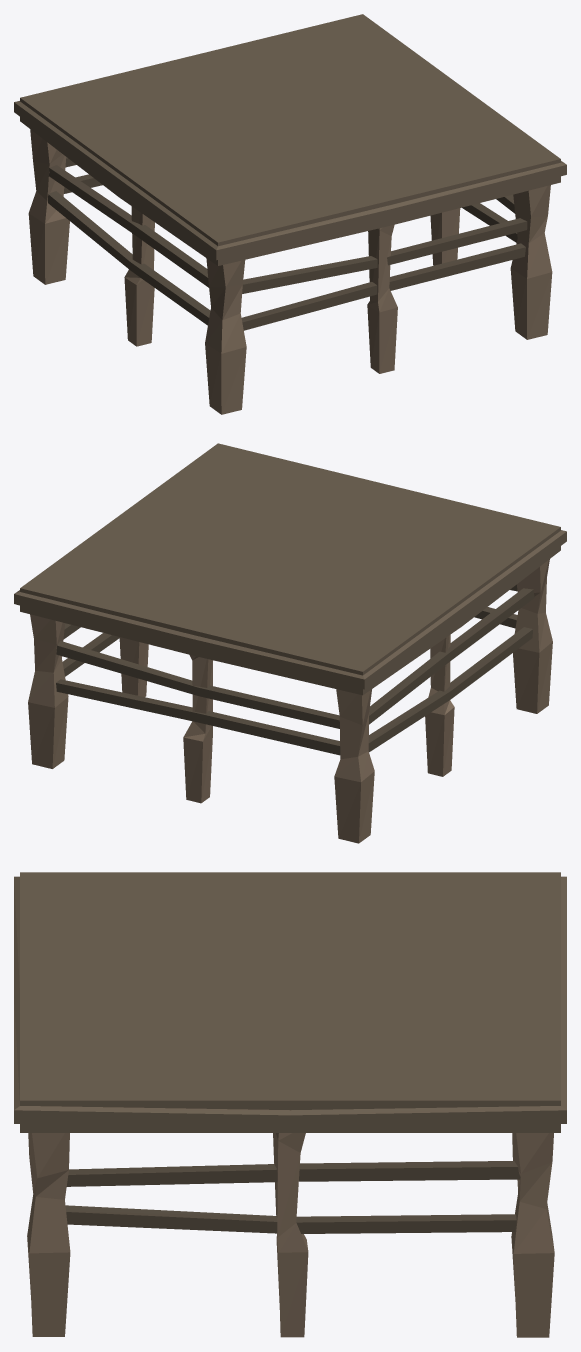
File: SM_Bld_Shanty_Base_Stilts_01.glb
3 renders of one model, top to bottom at view 1: azimuth 30°, elevation 25°; view 2: azimuth 150°, elevation 25°; view 3: azimuth 270°, elevation 25°, orthographic. The views are drawn at different scales.
Visible parts, largest first — view 1: SM_Bld_Shanty_Base_Stilts_01_part00; view 2: SM_Bld_Shanty_Base_Stilts_01_part00; view 3: SM_Bld_Shanty_Base_Stilts_01_part00.
Boxes of the visible parts, bbox=[...] form: SM_Bld_Shanty_Base_Stilts_01_part00: bbox=[14, 14, 566, 414]; SM_Bld_Shanty_Base_Stilts_01_part00: bbox=[14, 443, 566, 843]; SM_Bld_Shanty_Base_Stilts_01_part00: bbox=[14, 872, 566, 1337].
Bounding box in the file's own units: 5.11 × 2.47 × 5.11.
1 material, 1 textured.
